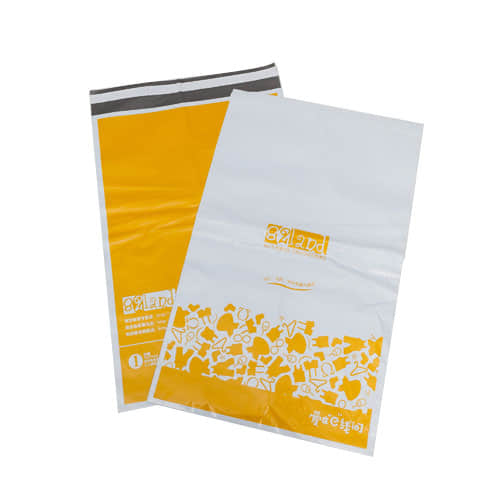Parcel: (90, 64, 422, 454)
